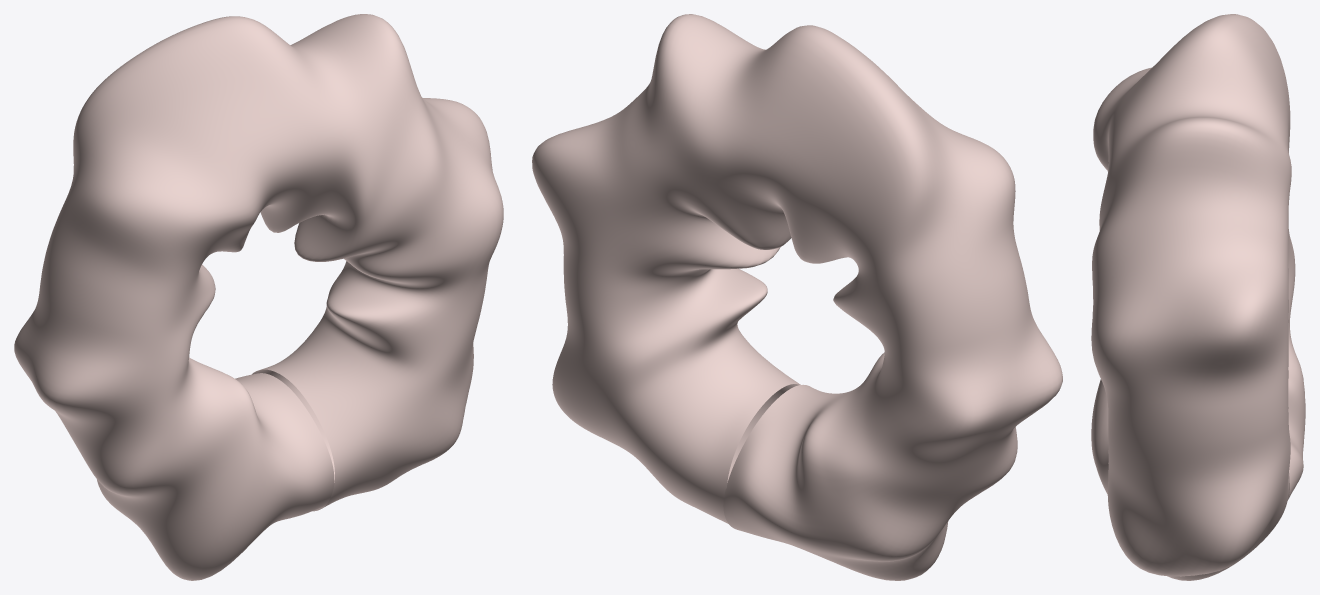
The model's file is form_5.glb.
3 renders of one model, left to right at view 1: azimuth 30°, elevation 25°; view 2: azimuth 150°, elevation 25°; view 3: azimuth 270°, elevation 25°, orthographic. The views are drawn at different scales.
Parts seen in each view (by area): view 1: Cube; view 2: Cube; view 3: Cube.
Part boxes in pixels (x1,y1,x2,y2): Cube: [14, 14, 503, 580]; Cube: [532, 14, 1062, 580]; Cube: [1091, 14, 1305, 580].
Bounding box in the file's own units: 23.58 × 25.24 × 9.2.
